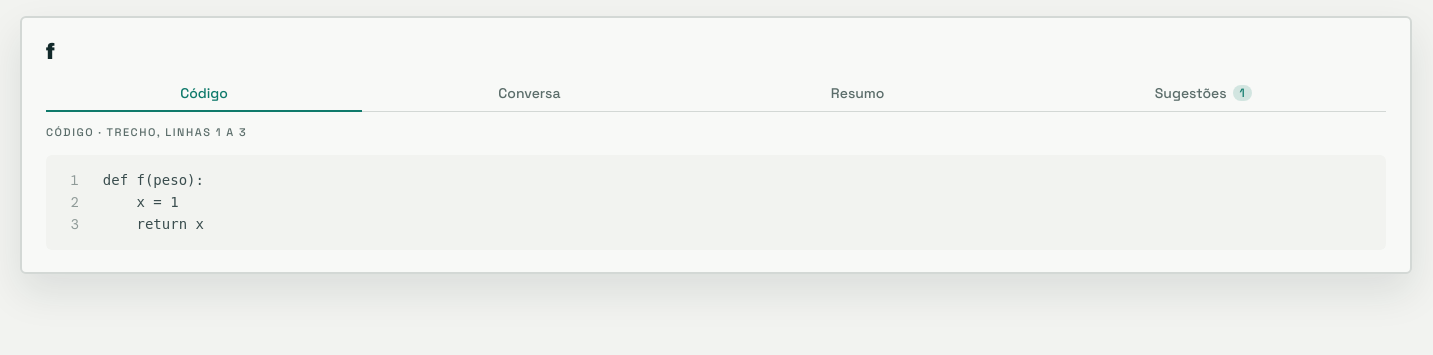
Test: DetailPanel, the suggestions kept from the chat › shows a kept suggestion even when nothing was generated
Click the tab "Sugestões 1" at (1203, 94), box [1021, 76, 1386, 112]
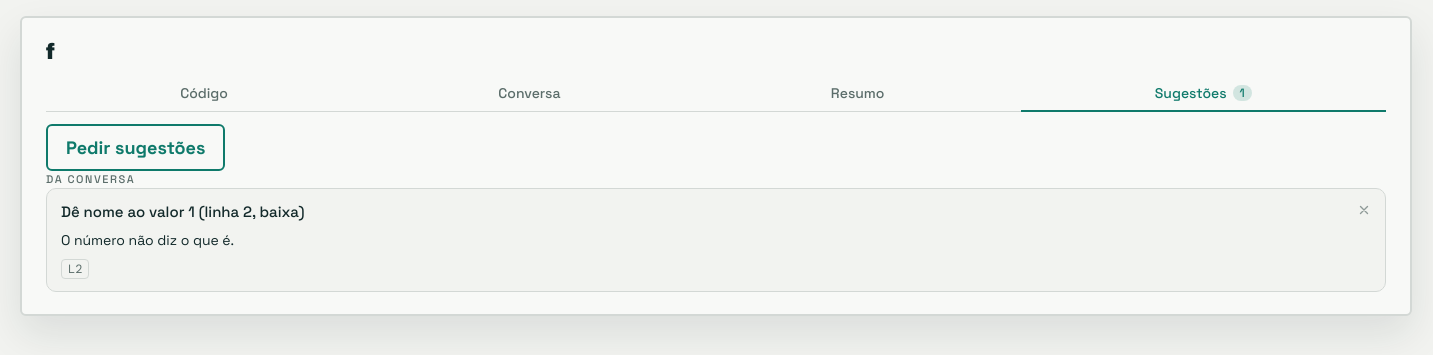
Check: the button "Pedir sugestões" is shown, box [46, 124, 225, 171]
